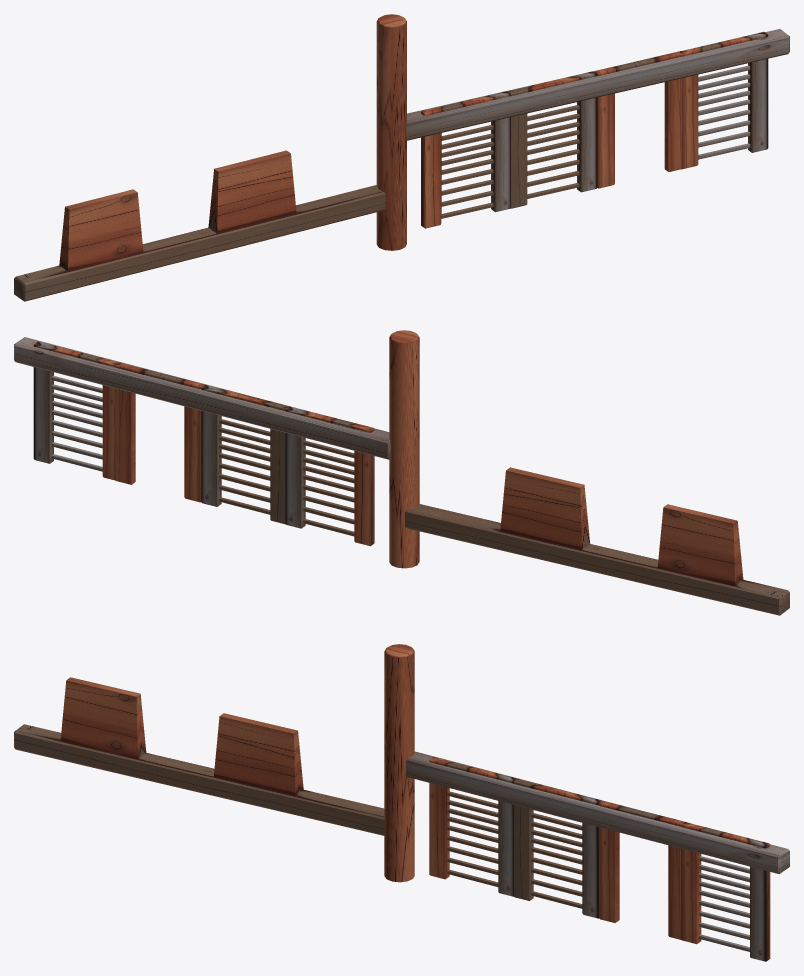
File: wheel.fbx
The picture shows the model from 3 angles, top to bottom: view 1: azimuth 30°, elevation 25°; view 2: azimuth 150°, elevation 25°; view 3: azimuth 330°, elevation 25°; orthographic projection.
Parts seen in each view (by area): view 1: wheel; view 2: wheel; view 3: wheel.
Part boxes in pixels (<box>): wheel: <box>14,14,789,301</box>; wheel: <box>14,330,789,615</box>; wheel: <box>14,644,789,961</box>.
Bounding box in the file's own units: 30.34 × 8.51 × 1.25.
